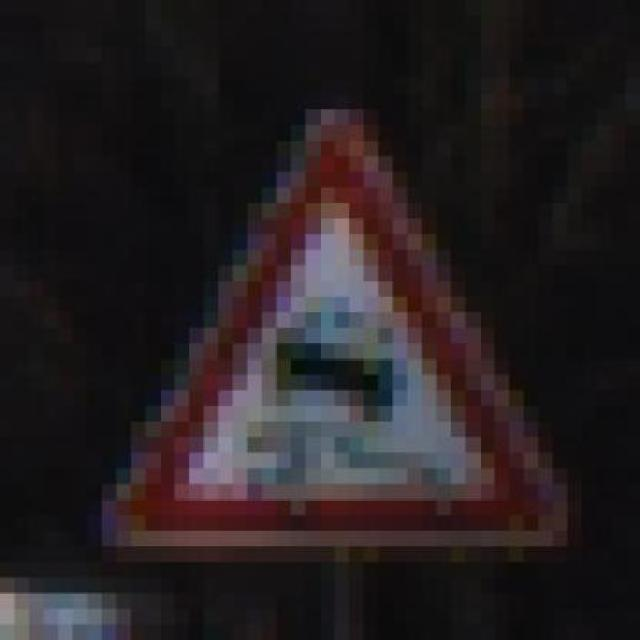Slippery Road Ahead: (87, 62, 567, 562)
